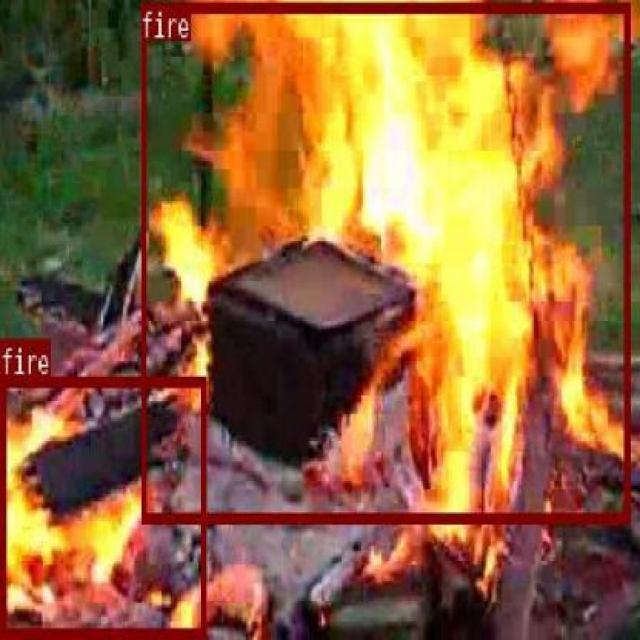Fire: (140, 0, 628, 522), (1, 377, 204, 636)
